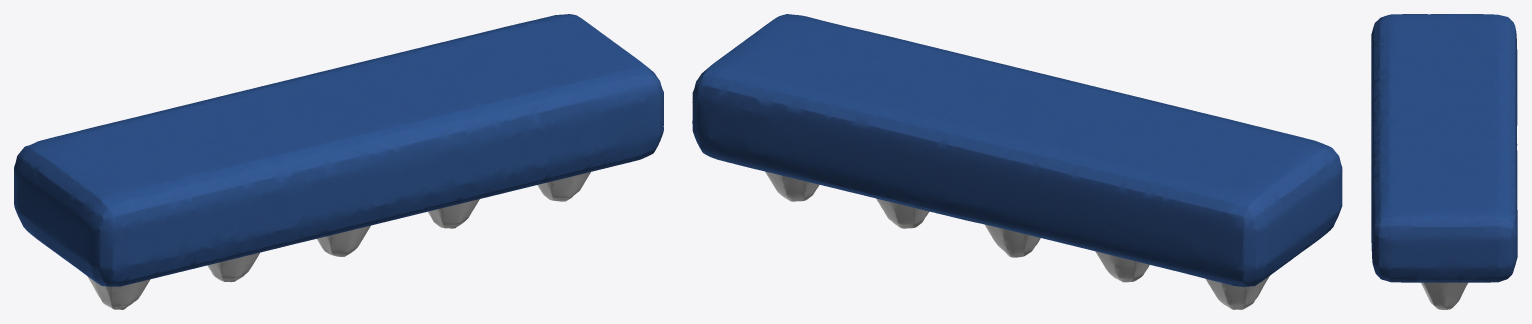
File: Meshy_AI_Blue_Spiked_Massager_1016093700_texture.fbx
3 views of the same model, side by side, from view 1: azimuth 30°, elevation 25°; view 2: azimuth 150°, elevation 25°; view 3: azimuth 270°, elevation 25° (orthographic). The views are drawn at different scales.
Parts seen in each view (by area): view 1: Mesh_0; view 2: Mesh_0; view 3: Mesh_0.
Boxes of the visible parts, bbox=[...] form: Mesh_0: bbox=[14, 14, 663, 309]; Mesh_0: bbox=[692, 14, 1342, 309]; Mesh_0: bbox=[1371, 14, 1517, 309].
Bounding box in the file's own units: 190 × 47.84 × 55.47.
1 material, 1 textured.
